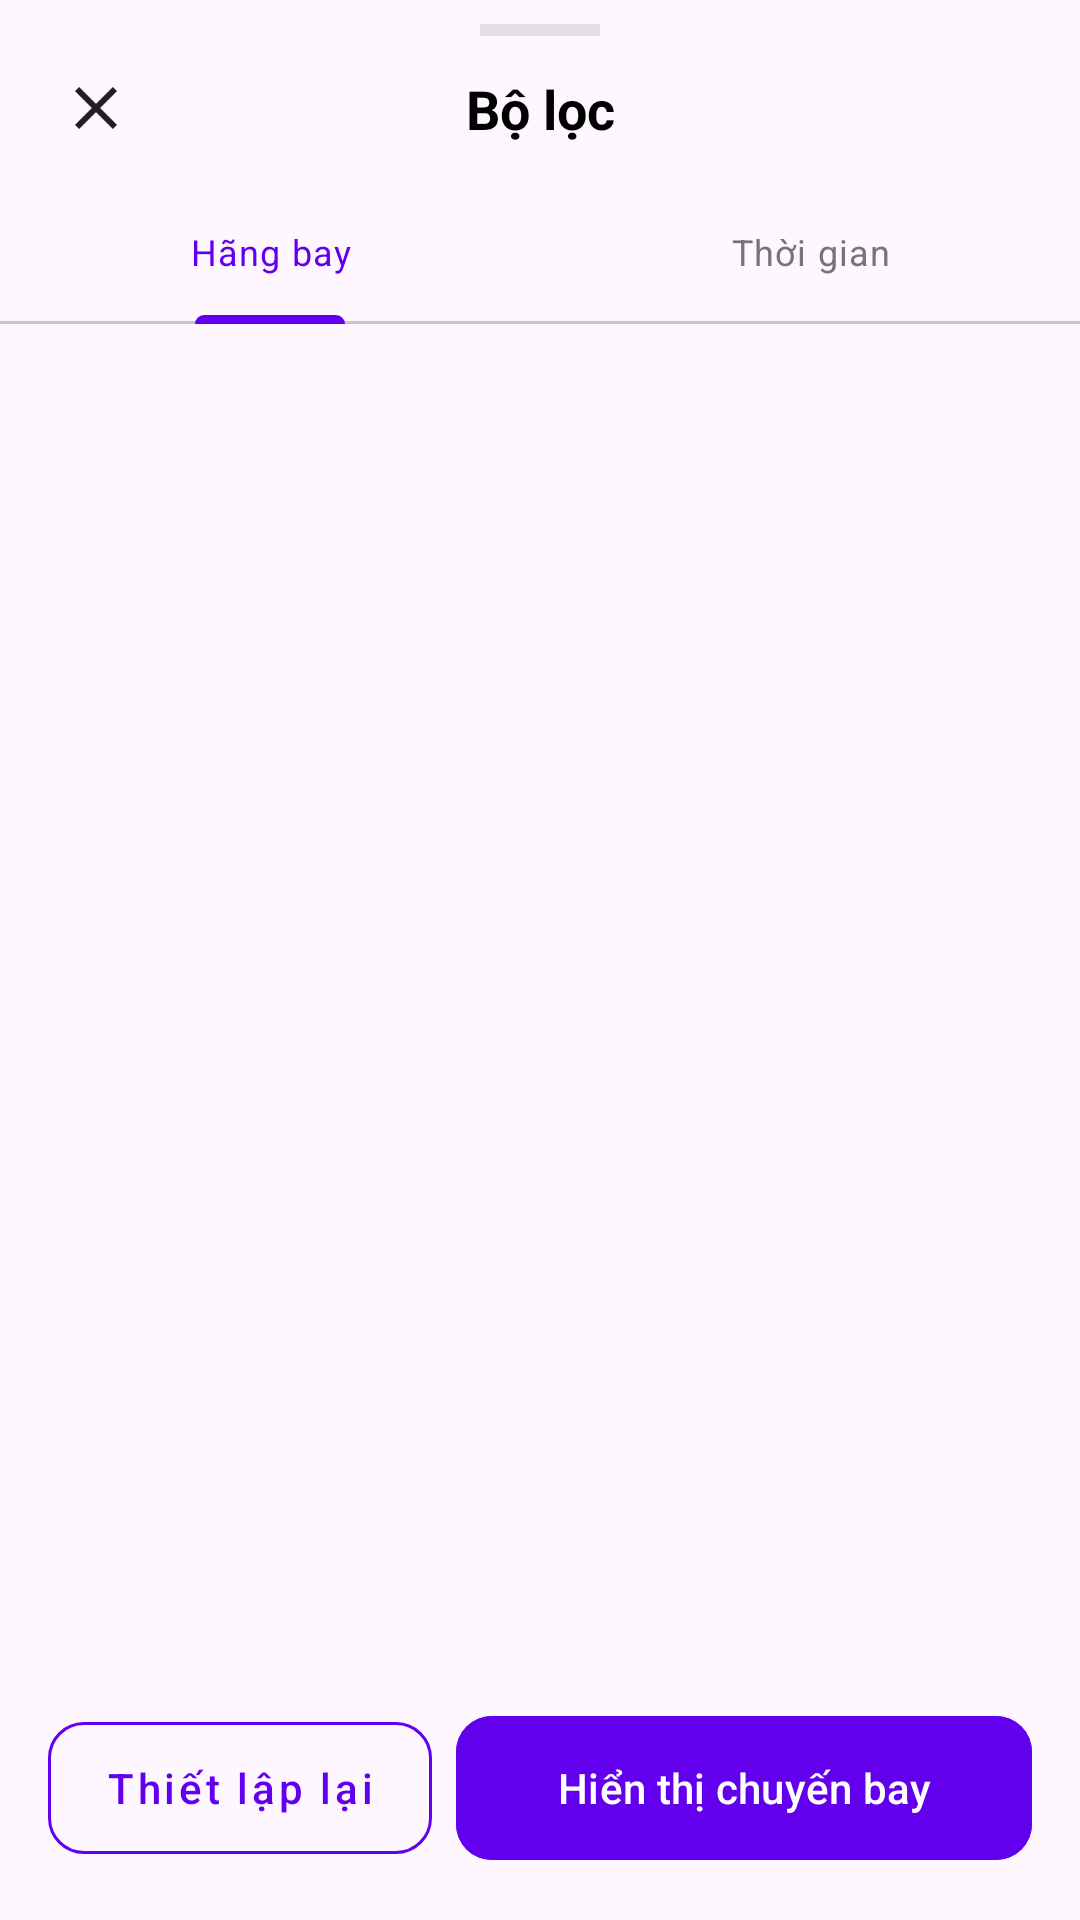

Screen size 1080 × 1920. Icon name, then its box in pixels as (x1, y1, x2, y2):
close: (75, 87, 117, 129)
